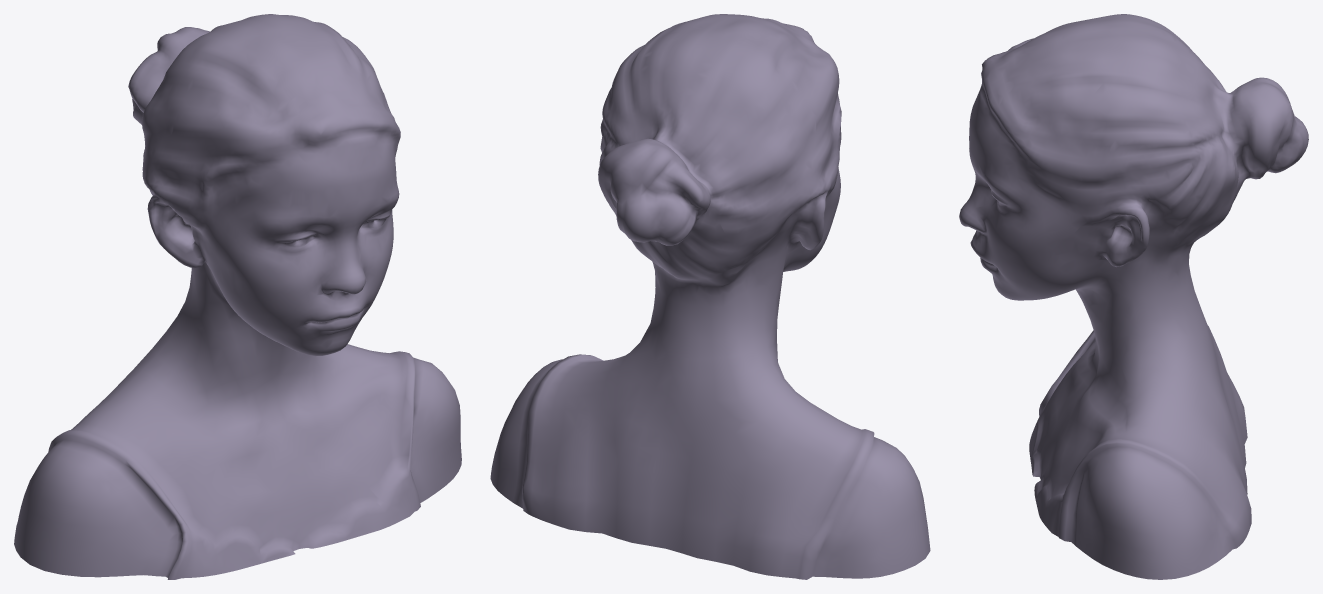
File: 石膏头像_女童_opt.glb
3 views of the same model, side by side, from view 1: azimuth 30°, elevation 25°; view 2: azimuth 150°, elevation 25°; view 3: azimuth 270°, elevation 25° (orthographic). The views are drawn at different scales.
Parts seen in each view (by area): view 1: UllaLowPoly; view 2: UllaLowPoly; view 3: UllaLowPoly.
Part boxes in pixels (box(x1,y1,x2,y2)): UllaLowPoly: box(14, 14, 461, 579); UllaLowPoly: box(490, 14, 930, 579); UllaLowPoly: box(959, 14, 1308, 579).
Size of the model in its own units: 0.3746 by 0.4 by 0.2785.
